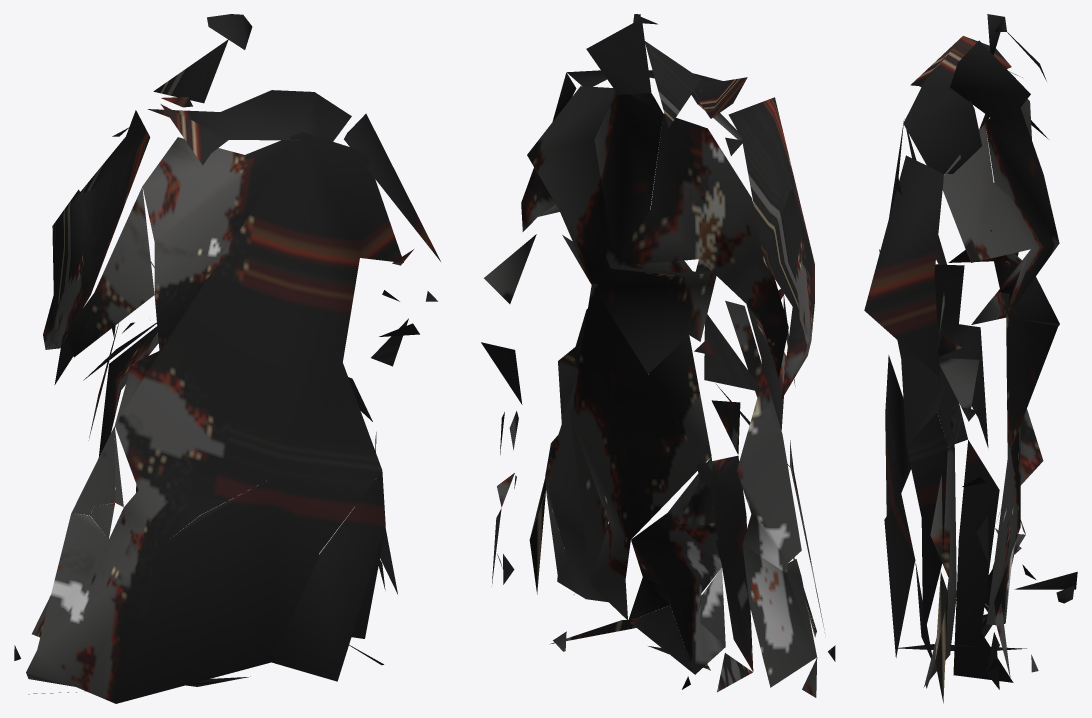
The picture shows the model from 3 angles, left to right: view 1: azimuth 30°, elevation 25°; view 2: azimuth 150°, elevation 25°; view 3: azimuth 270°, elevation 25°; orthographic projection. The views are drawn at different scales.
Parts seen in each view (by area): view 1: body.002; view 2: body.002; view 3: body.002.
Part boxes in pixels (<box>): body.002: <box>14,14,440,703</box>; body.002: <box>481,14,835,697</box>; body.002: <box>864,14,1077,703</box>.
Size of the model in its own units: 1.26 by 1.98 by 0.6131.
Materials: 1 (1 with a texture image).
